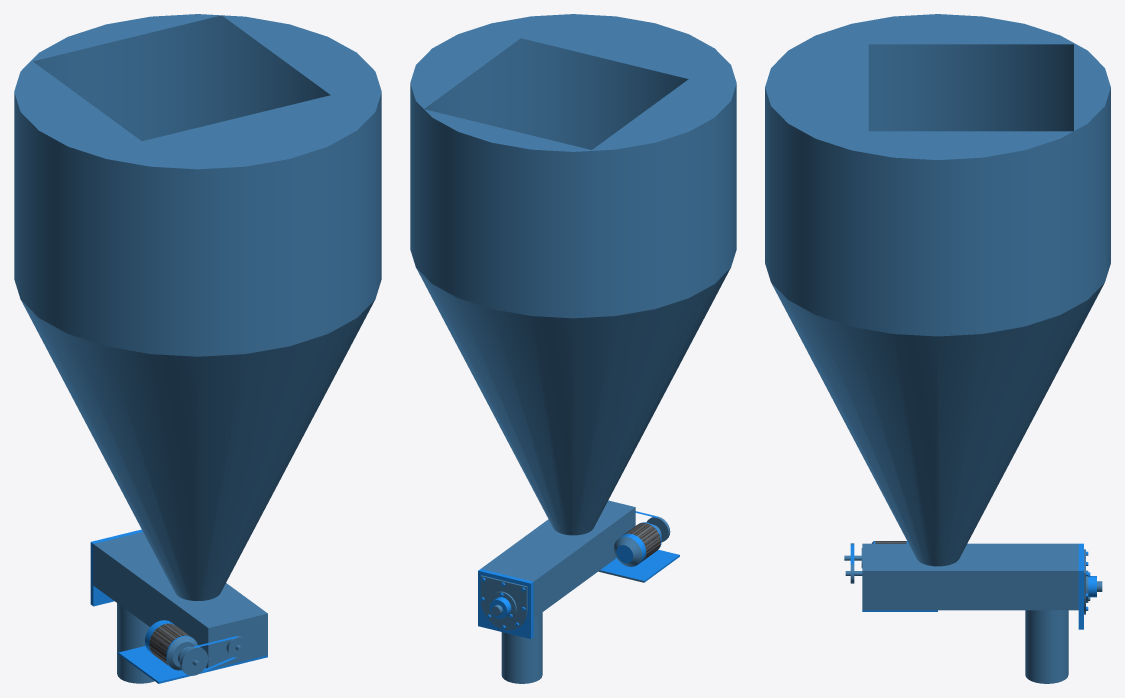
The model's file is 称量包装机.glb.
3 views of the same model, side by side, from view 1: azimuth 30°, elevation 25°; view 2: azimuth 150°, elevation 25°; view 3: azimuth 270°, elevation 25° (orthographic). The views are drawn at different scales.
Parts seen in each view (by area): view 1: root; view 2: root; view 3: root.
Part boxes in pixels (bbox=[...]): root: bbox=[14, 14, 381, 683]; root: bbox=[410, 14, 736, 683]; root: bbox=[765, 14, 1110, 683].
Size of the model in its own units: 3.2 by 6 by 3.2.
Materials: 3 (1 with a texture image).
